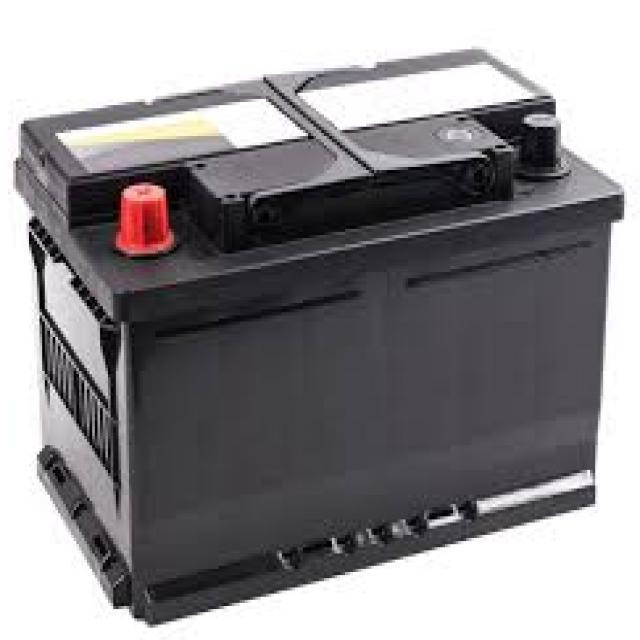battery: (14, 41, 624, 628)
